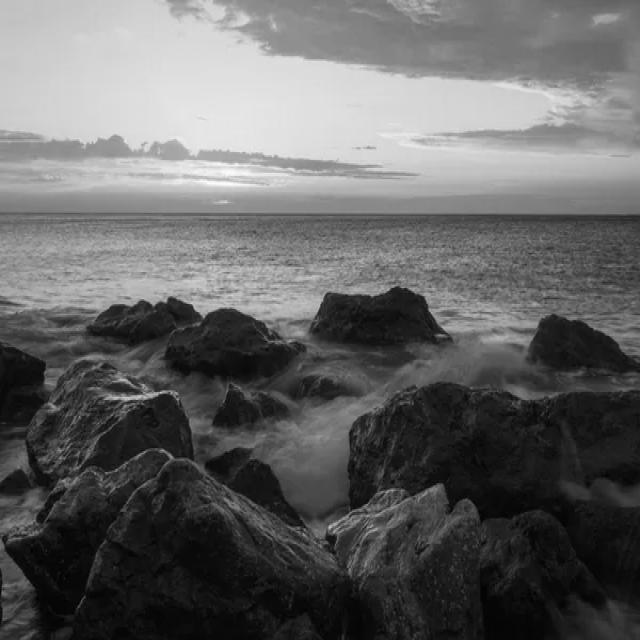Stone: (74, 459, 353, 640), (333, 487, 619, 636), (344, 366, 640, 495), (3, 450, 170, 614), (26, 360, 192, 487), (311, 278, 453, 346), (165, 309, 305, 377), (527, 314, 634, 376), (88, 292, 195, 338)
